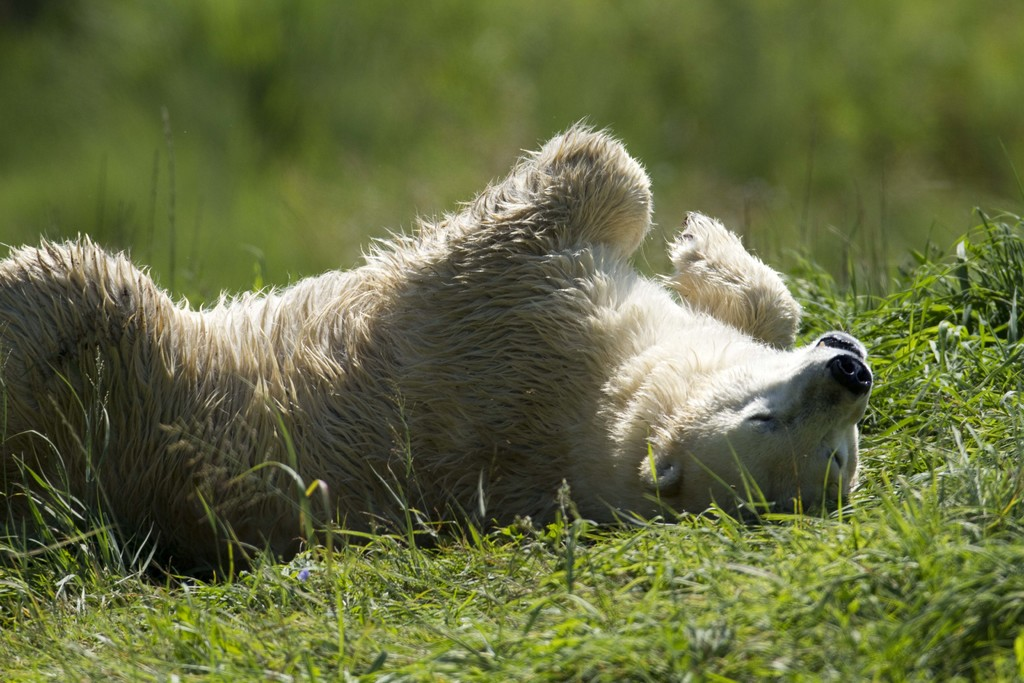Animal: (3, 110, 876, 578)
